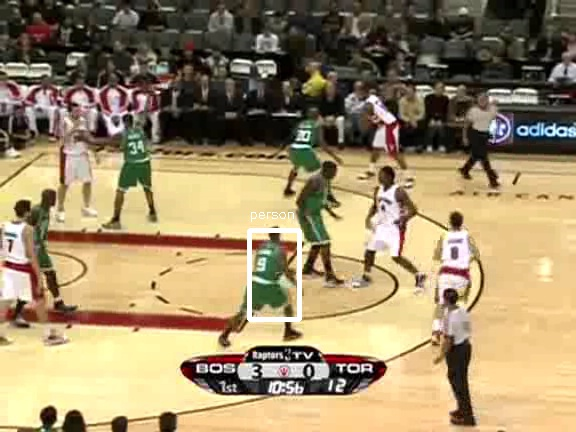person: (251, 238, 285, 319), (250, 238, 284, 319), (252, 238, 286, 319), (251, 237, 285, 318), (251, 239, 285, 320)
target_negative: (29, 206, 546, 318), (393, 226, 575, 426), (176, 312, 395, 391), (38, 323, 93, 407), (514, 12, 566, 14)
